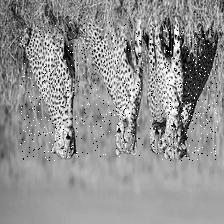Cheetha: (80, 20, 142, 156), (19, 19, 78, 160), (166, 28, 218, 160), (154, 18, 188, 144), (150, 24, 165, 161)
